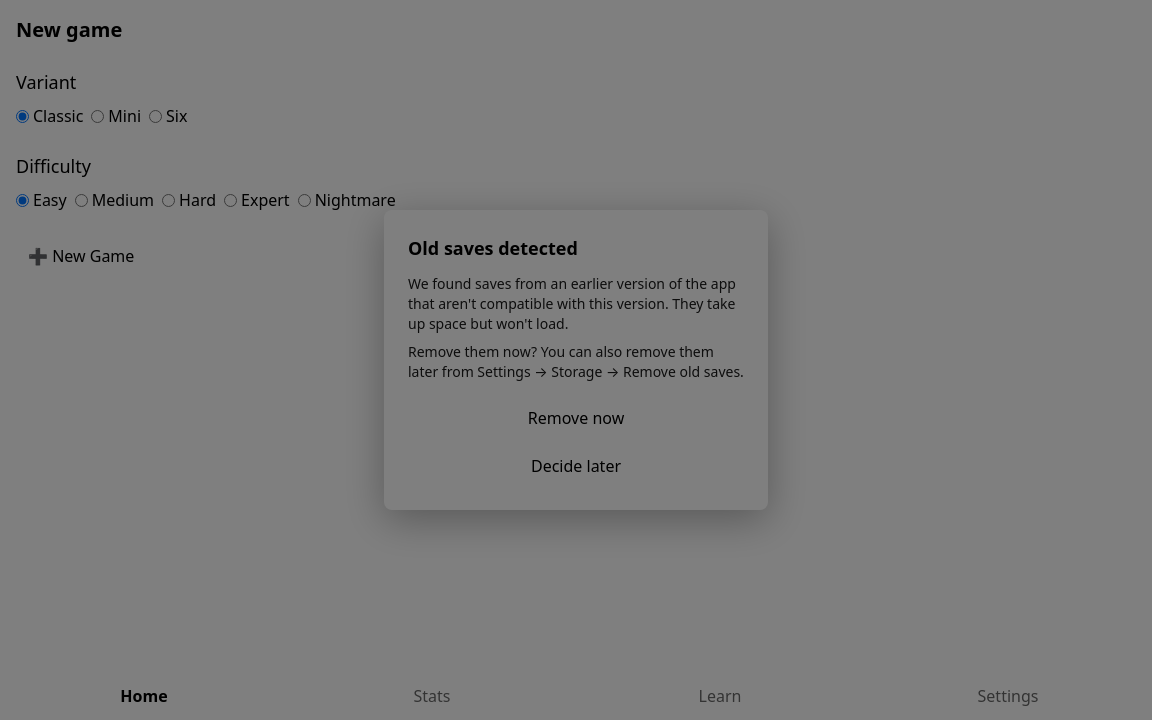
Test: App migration prompt › hides the dialog and removes the v2 key when "Remove now" is clicked
Click the button with test id "confirm-dialog-confirm".
click(576, 418)  # box [408,398,744,438]
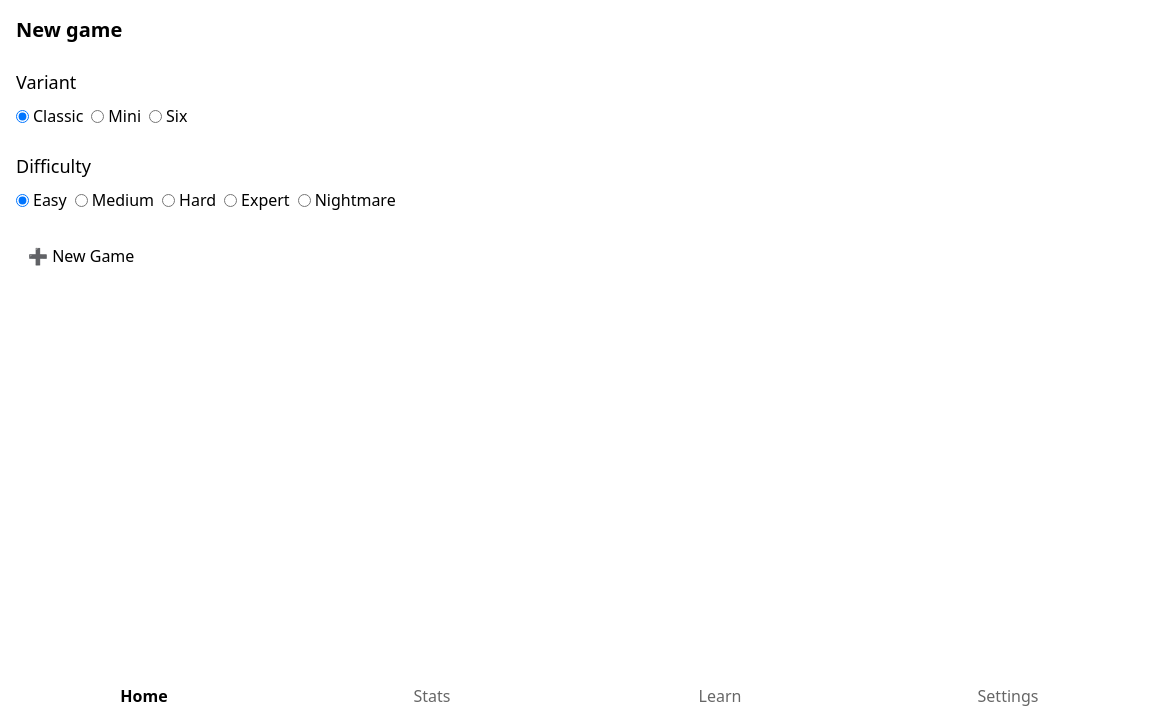
Now the dialog with test id "confirm-dialog" is gone
